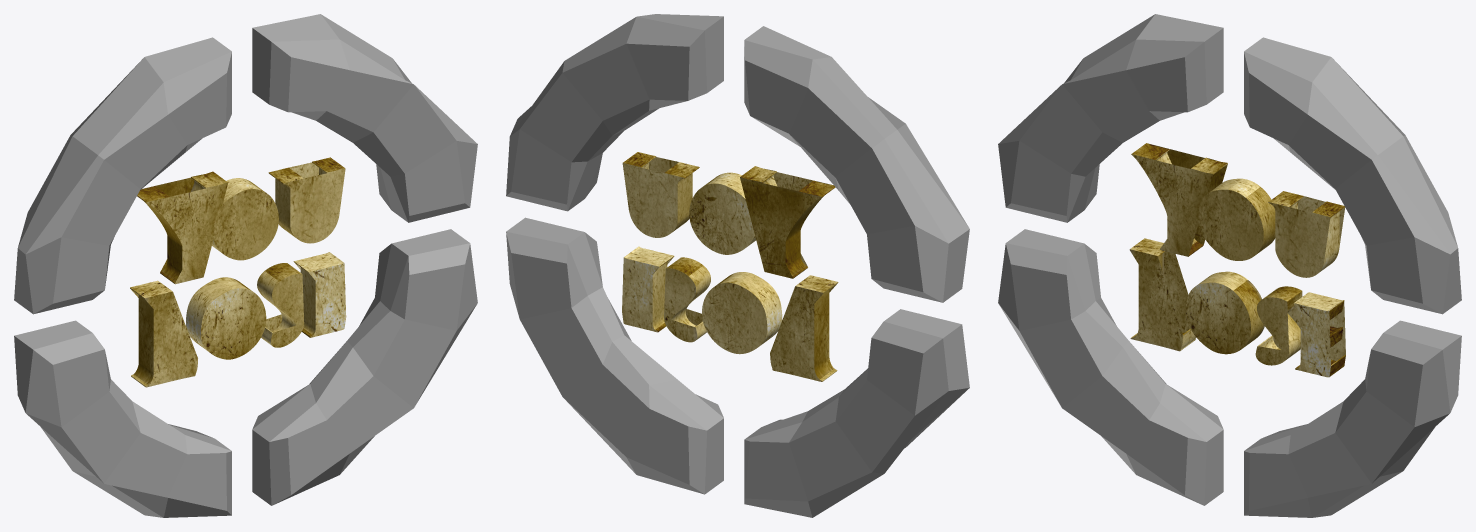
Rendered from you_lose.fbx.
The picture shows the model from 3 angles, left to right: view 1: azimuth 30°, elevation 25°; view 2: azimuth 150°, elevation 25°; view 3: azimuth 330°, elevation 25°; orthographic projection.
Parts seen in each view (by area): view 1: lose, clock_qauter_4, clock_qauter_2, clock_qauter_1, clock_qauter_3; view 2: lose, clock_qauter_2, clock_qauter_4, clock_qauter_3, clock_qauter_1; view 3: lose, clock_qauter_1, clock_qauter_3, clock_qauter_4, clock_qauter_2.
Boxes of the visible parts, bbox=[...] form: lose: bbox=[130, 157, 346, 387]; clock_qauter_4: bbox=[14, 37, 231, 314]; clock_qauter_2: bbox=[252, 229, 477, 505]; clock_qauter_1: bbox=[252, 14, 477, 222]; clock_qauter_3: bbox=[14, 320, 231, 517]; lose: bbox=[622, 152, 838, 381]; clock_qauter_2: bbox=[506, 217, 723, 494]; clock_qauter_4: bbox=[744, 26, 969, 302]; clock_qauter_3: bbox=[744, 309, 969, 517]; clock_qauter_1: bbox=[506, 14, 723, 211]; lose: bbox=[1129, 143, 1345, 377]; clock_qauter_1: bbox=[1244, 37, 1461, 314]; clock_qauter_3: bbox=[998, 229, 1223, 505]; clock_qauter_4: bbox=[998, 14, 1223, 222]; clock_qauter_2: bbox=[1244, 320, 1461, 517].
Size of the model in its own units: 36.45 by 35.75 by 4.71.
2 materials, 1 textured.
